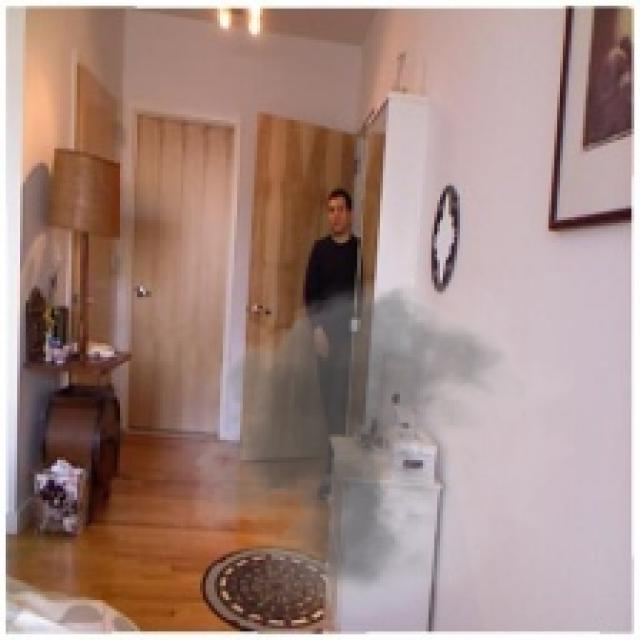smoke: (174, 260, 577, 620)
